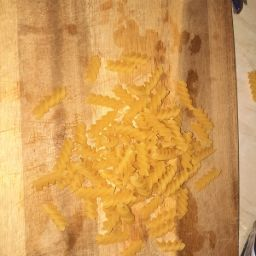Pasta: (73, 48, 225, 194), (19, 80, 142, 256), (164, 76, 226, 146), (170, 118, 222, 189), (142, 199, 198, 256), (114, 36, 152, 79), (27, 86, 72, 120), (32, 171, 82, 198), (37, 200, 71, 235), (81, 53, 106, 97), (56, 134, 81, 175)
